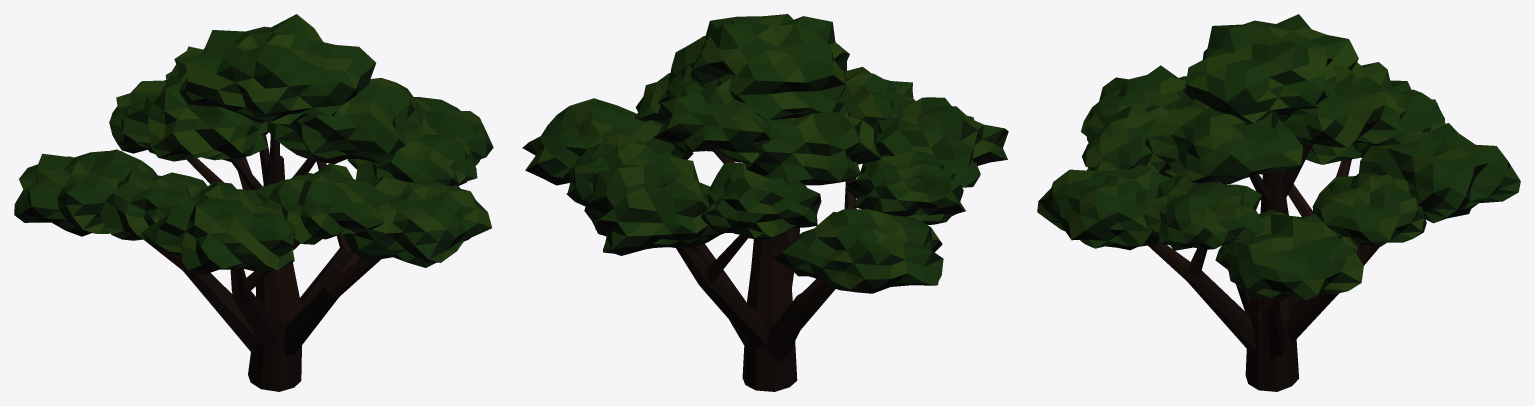
File: flora_ancient_oak_canopy.glb
3 views of the same model, side by side, from view 1: azimuth 30°, elevation 25°; view 2: azimuth 150°, elevation 25°; view 3: azimuth 270°, elevation 25° (orthographic). The views are drawn at different scales.
Parts seen in each view (by area): view 1: Flora_Ancient_Oak_Canopy; view 2: Flora_Ancient_Oak_Canopy; view 3: Flora_Ancient_Oak_Canopy.
Part boxes in pixels (bbox=[...]): Flora_Ancient_Oak_Canopy: bbox=[14, 14, 493, 391]; Flora_Ancient_Oak_Canopy: bbox=[522, 14, 1008, 391]; Flora_Ancient_Oak_Canopy: bbox=[1037, 14, 1520, 391].
Bounding box in the file's own units: 7.03 × 5.46 × 6.82.
